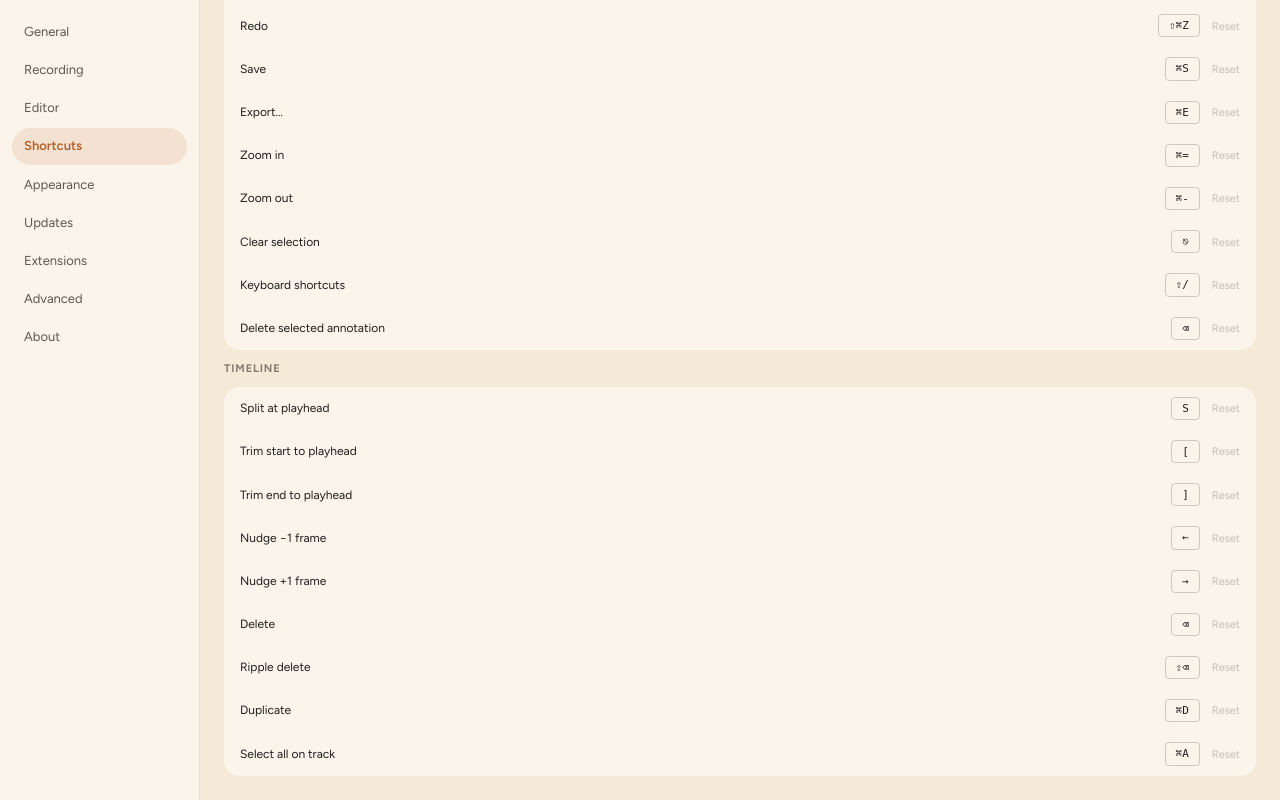
Test case: Shortcuts page › saves a shadow conflict with a hint
(page scrolled)
Step 1. Click the button "S" → (1186,408), box [1171,397,1200,420]
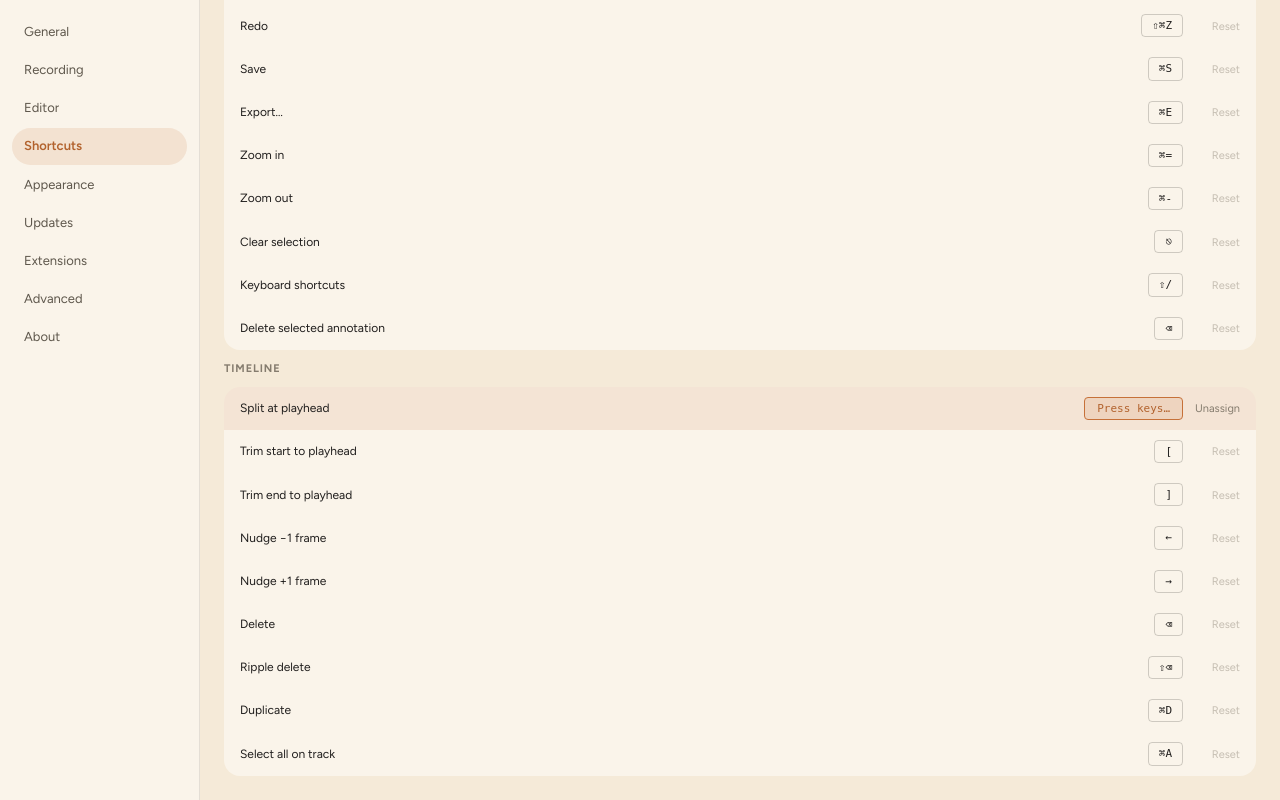
Step 2. Press Space in the button "Press keys…", box [1084,397,1183,420]
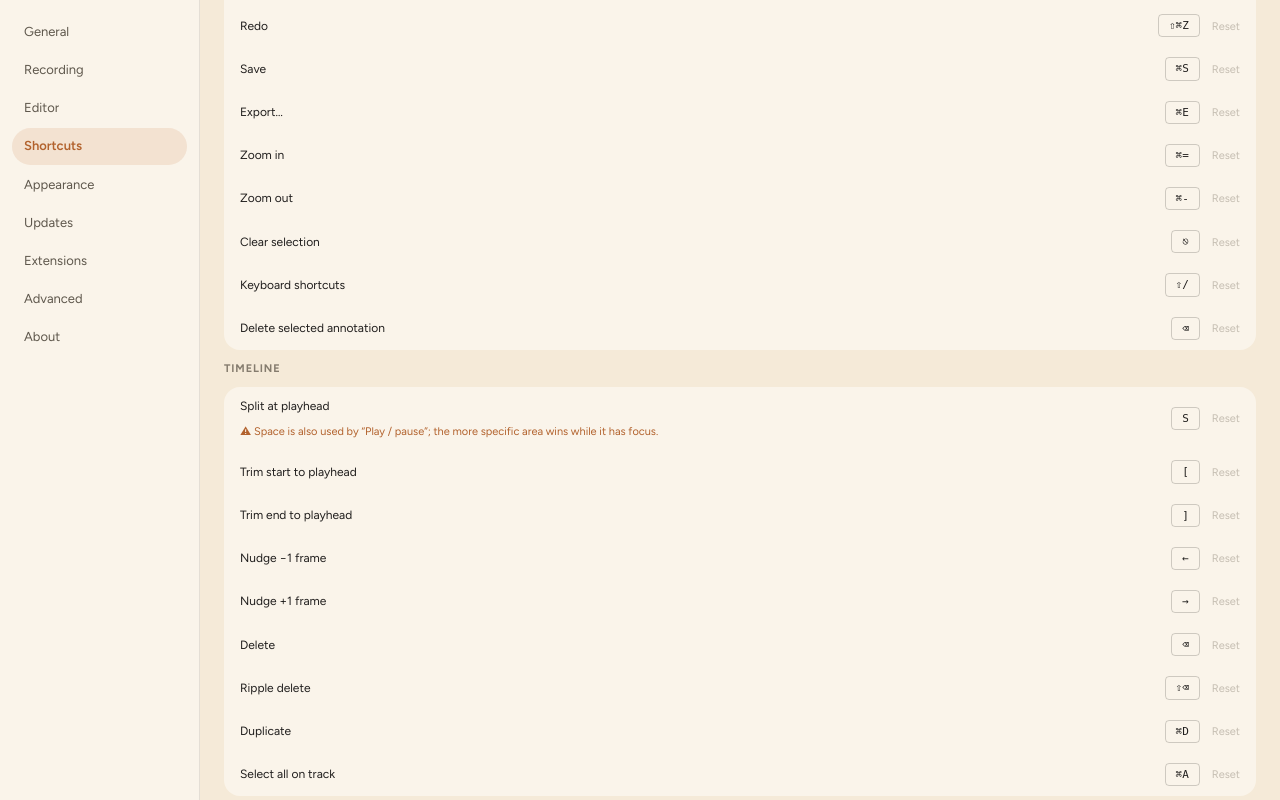
Expected: the text "also used by “Play / pause”" is shown, [254,425,658,438]
